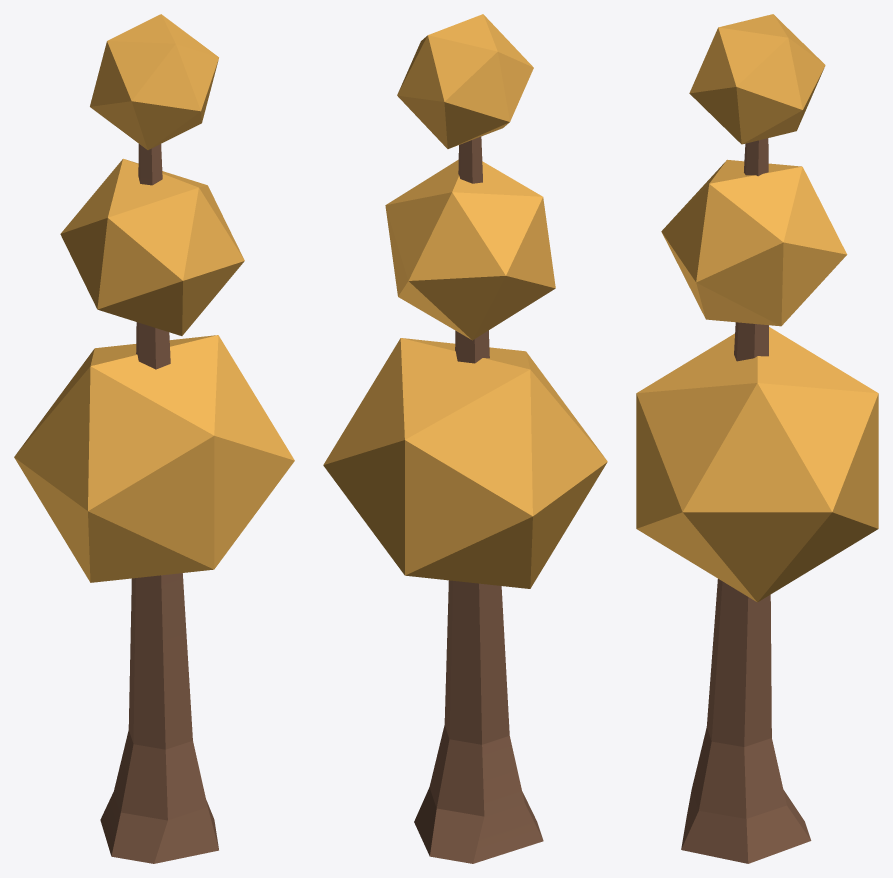
The model's file is deciduous_tree_5.fbx.
3 renders of one model, left to right at view 1: azimuth 30°, elevation 25°; view 2: azimuth 150°, elevation 25°; view 3: azimuth 270°, elevation 25°, orthographic.
Visible parts, largest first — view 1: deciduous_tree_5; view 2: deciduous_tree_5; view 3: deciduous_tree_5.
Part boxes in pixels (x1,y1,x2,y2): deciduous_tree_5: (14,14,294,863); deciduous_tree_5: (323,14,607,863); deciduous_tree_5: (636,14,878,863).
Size of the model in its own units: 156 by 575 by 156.
